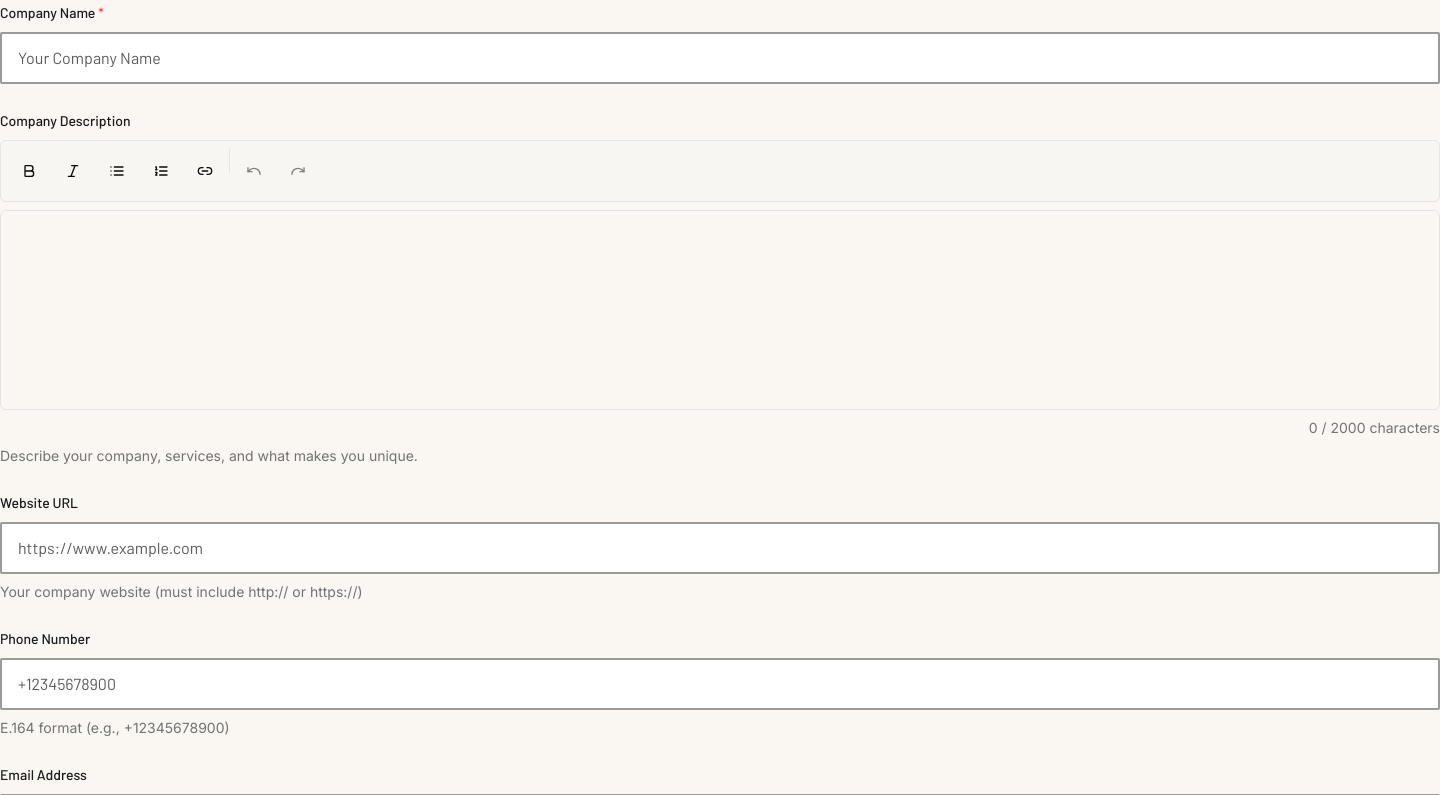
Test case: ProfileEditForm › Validation › should validate website URL format
The width and height of the screenshot is (1440, 795).
Type "invalid-url" into the field labelled "Website URL" at coordinates (720, 548), box left=0, top=522, right=1439, bottom=574
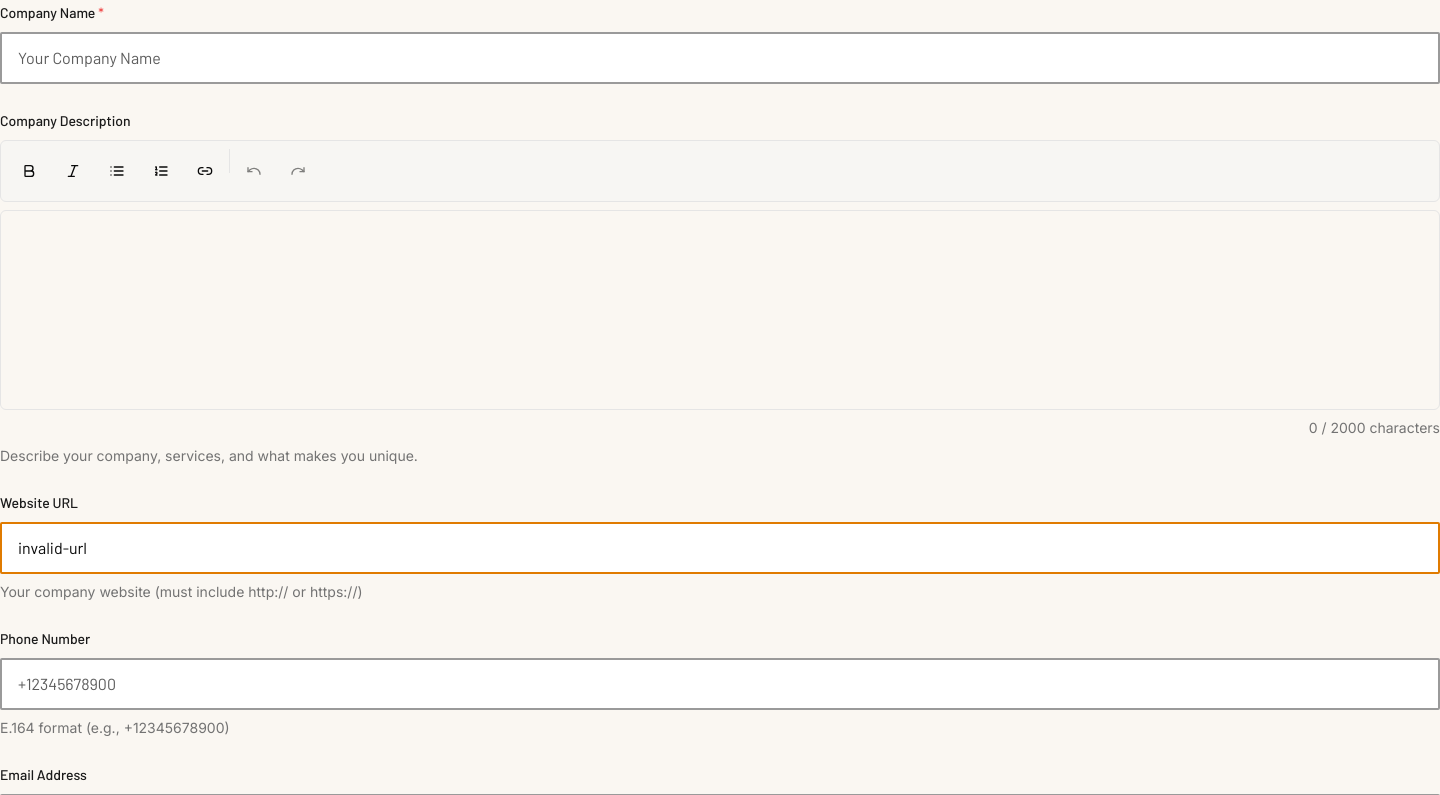
Press Tab
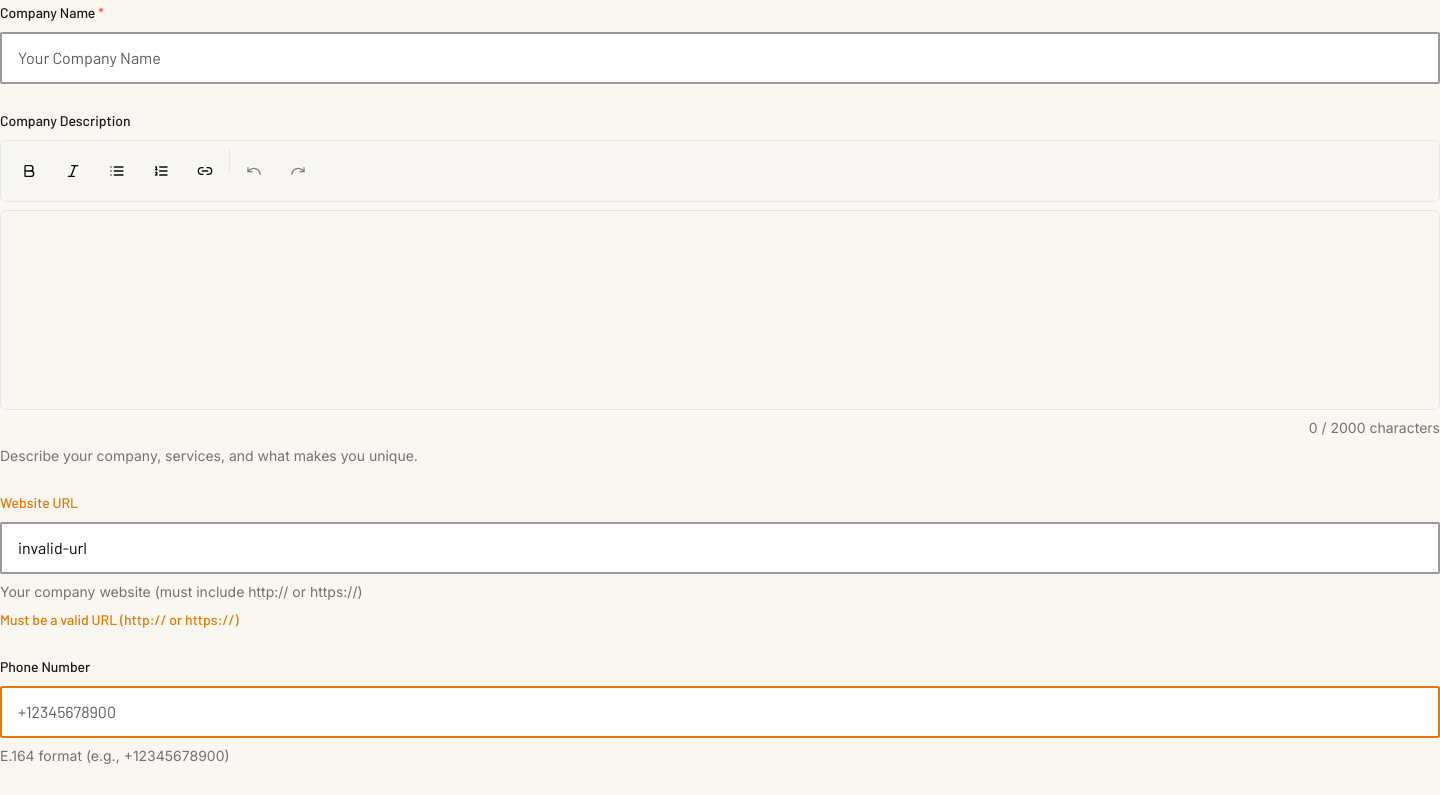
Now the text "Must be a valid URL (http:// or https://)" is shown, box left=0, top=611, right=238, bottom=628
